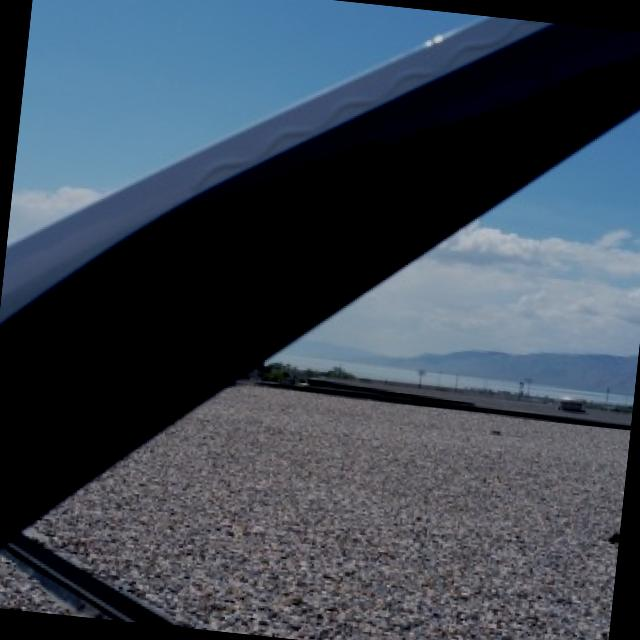healthy: (0, 16, 640, 539)
